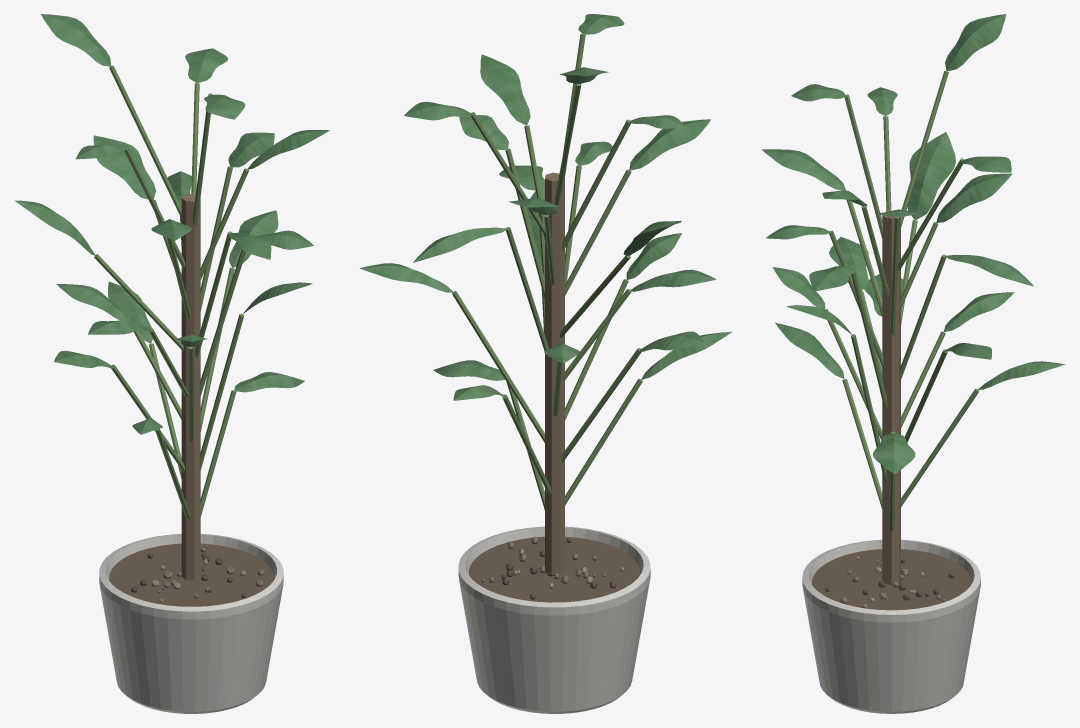
File: ficus-lyrata_LUMA_3D.glb
3 views of the same model, side by side, from view 1: azimuth 30°, elevation 25°; view 2: azimuth 150°, elevation 25°; view 3: azimuth 270°, elevation 25° (orthographic). The views are drawn at different scales.
Visible parts, largest first — view 1: world; view 2: world; view 3: world.
Boxes of the visible parts, x1,y1,x2,y2 form: world: (15,14,329,713); world: (360,14,732,713); world: (761,14,1064,713).
Bounding box in the file's own units: 1.5 × 3.26 × 1.43.
